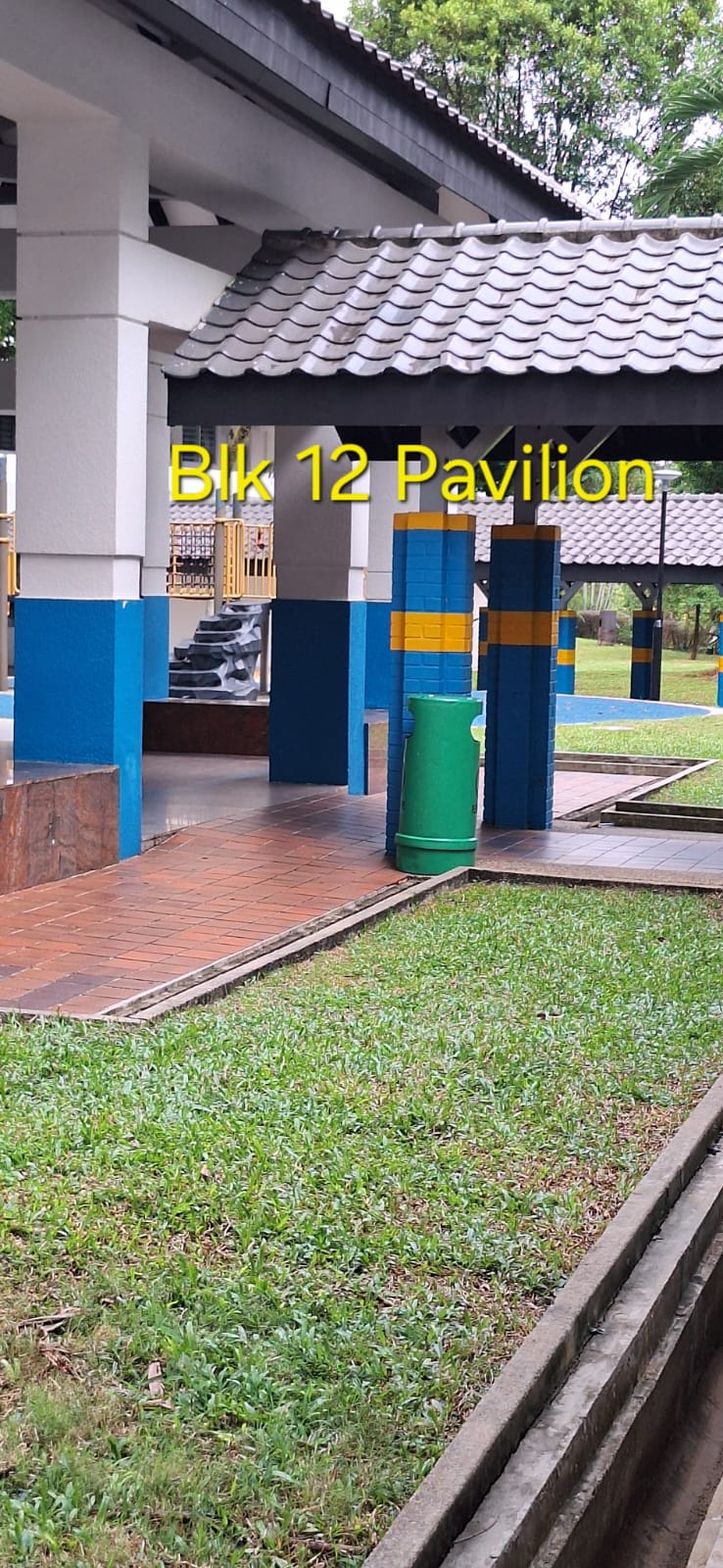bin_empty: (395, 694, 480, 874)
